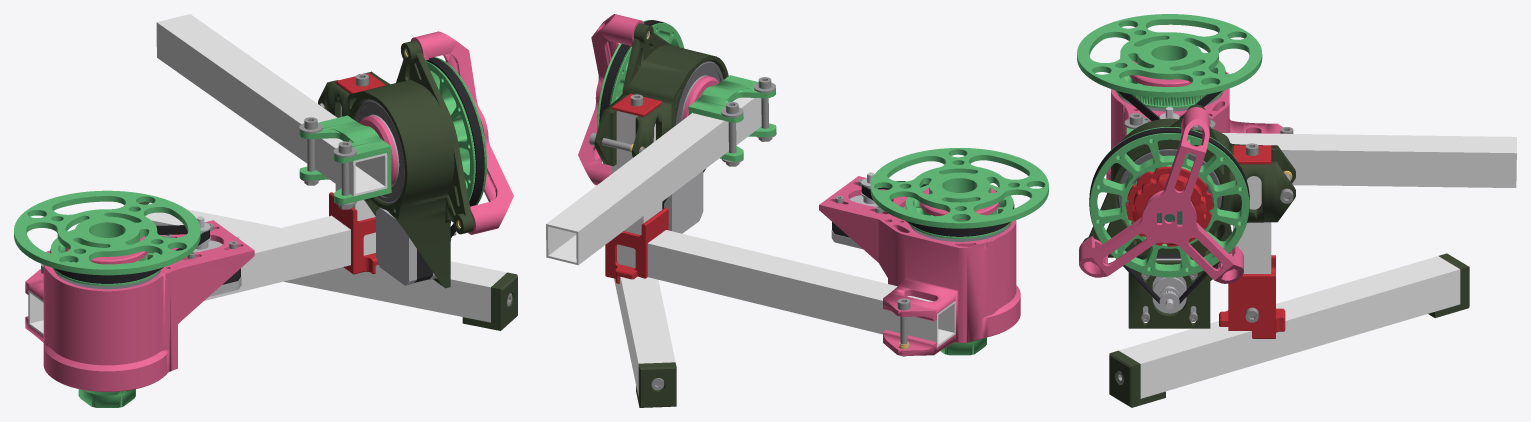
File: Orbiter.glb
3 views of the same model, side by side, from view 1: azimuth 30°, elevation 25°; view 2: azimuth 150°, elevation 25°; view 3: azimuth 270°, elevation 25° (orthographic). The views are drawn at different scales.
Visible parts, largest first — view 1: BottomBody:1 / BottomHousin(Mirror):1, ElevationDrive:1 / BottomHousin:1, OrbitArm:1, BottomBody:1 / BasePlatformInsert Taper:1, CrossRail:1, MainRail:1, ElevationDrive:1 / AngleSensorMount Ribbed:1, ElevationDrive:1 / BarMountInsert:1, ElevationDrive:1 / NEMA17 24mm:2, ElevationDrive:1 / ReplacablePulley:1, Rail end caps:1 / MainRail tie cap:1, ElevationDrive:1 / Belt Elevation:1 (+10 smaller); view 2: BottomBody:1 / BottomHousin(Mirror):1, MainRail:1, OrbitArm:1, BottomBody:1 / BasePlatformInsert Taper:1, ElevationDrive:1 / BottomHousin:1, CrossRail:1, ElevationDrive:1 / AngleSensorMount Ribbed:1, ElevationDrive:1 / BarMountInsert:1, Rail end caps:1 / MainRail tie cap:1, Rail end caps:1 / CrossRail foot cap:2, ElevationDrive:1 / NEMA17 24mm:2, VertivalBar:1 (+9 smaller); view 3: CrossRail:1, OrbitArm:1, BottomBody:1 / BasePlatformInsert Taper:1, ElevationDrive:1 / BottomHousin:1, ElevationDrive:1 / AngleSensorMount Ribbed:1, ElevationDrive:1 / ReplacablePulley:1, Rail end caps:1 / MainRail tie cap:1, ElevationDrive:1 / ClampNut M32x1:1, BottomBody:1 / BottomHousin(Mirror):1, VertivalBar:1, Rail end caps:1 / CrossRail foot cap:1, ElevationDrive:1 / Belt Elevation:1 (+7 smaller).
Part boxes in pixels (left/top/right/bottom): BottomBody:1 / BottomHousin(Mirror):1: left=25, top=220, right=254, bottom=391; ElevationDrive:1 / BottomHousin:1: left=318, top=40, right=474, bottom=288; OrbitArm:1: left=156, top=14, right=387, bottom=196; BottomBody:1 / BasePlatformInsert Taper:1: left=14, top=190, right=200, bottom=275; CrossRail:1: left=145, top=202, right=506, bottom=322; MainRail:1: left=28, top=215, right=375, bottom=335; ElevationDrive:1 / AngleSensorMount Ribbed:1: left=411, top=31, right=513, bottom=234; ElevationDrive:1 / BarMountInsert:1: left=299, top=115, right=391, bottom=204; ElevationDrive:1 / NEMA17 24mm:2: left=376, top=207, right=456, bottom=285; ElevationDrive:1 / ReplacablePulley:1: left=426, top=57, right=486, bottom=204; Rail end caps:1 / MainRail tie cap:1: left=329, top=192, right=378, bottom=274; ElevationDrive:1 / Belt Elevation:1: left=426, top=57, right=484, bottom=238; BottomBody:1 / BottomHousin(Mirror):1: left=819, top=176, right=1020, bottom=355; MainRail:1: left=617, top=230, right=955, bottom=347; OrbitArm:1: left=546, top=97, right=761, bottom=265; BottomBody:1 / BasePlatformInsert Taper:1: left=870, top=148, right=1048, bottom=228; ElevationDrive:1 / BottomHousin:1: left=594, top=23, right=728, bottom=205; CrossRail:1: left=614, top=276, right=675, bottom=396; ElevationDrive:1 / AngleSensorMount Ribbed:1: left=578, top=14, right=644, bottom=185; ElevationDrive:1 / BarMountInsert:1: left=688, top=75, right=776, bottom=161; Rail end caps:1 / MainRail tie cap:1: left=605, top=207, right=668, bottom=283; Rail end caps:1 / CrossRail foot cap:2: left=636, top=362, right=676, bottom=407; ElevationDrive:1 / NEMA17 24mm:2: left=662, top=171, right=703, bottom=233; VertivalBar:1: left=611, top=111, right=662, bottom=234; CrossRail:1: left=1119, top=256, right=1460, bottom=398; OrbitArm:1: left=1222, top=133, right=1516, bottom=187; BottomBody:1 / BasePlatformInsert Taper:1: left=1077, top=14, right=1262, bottom=97; ElevationDrive:1 / BottomHousin:1: left=1083, top=104, right=1295, bottom=328; ElevationDrive:1 / AngleSensorMount Ribbed:1: left=1079, top=107, right=1243, bottom=283; ElevationDrive:1 / ReplacablePulley:1: left=1090, top=127, right=1249, bottom=277; Rail end caps:1 / MainRail tie cap:1: left=1219, top=255, right=1285, bottom=338; ElevationDrive:1 / ClampNut M32x1:1: left=1126, top=166, right=1212, bottom=246; BottomBody:1 / BottomHousin(Mirror):1: left=1106, top=72, right=1293, bottom=185; VertivalBar:1: left=1233, top=176, right=1271, bottom=273; Rail end caps:1 / CrossRail foot cap:1: left=1109, top=350, right=1165, bottom=407; ElevationDrive:1 / Belt Elevation:1: left=1089, top=127, right=1249, bottom=303.
Bounding box in the file's own units: 0.3499 × 0.1918 × 0.2852.
